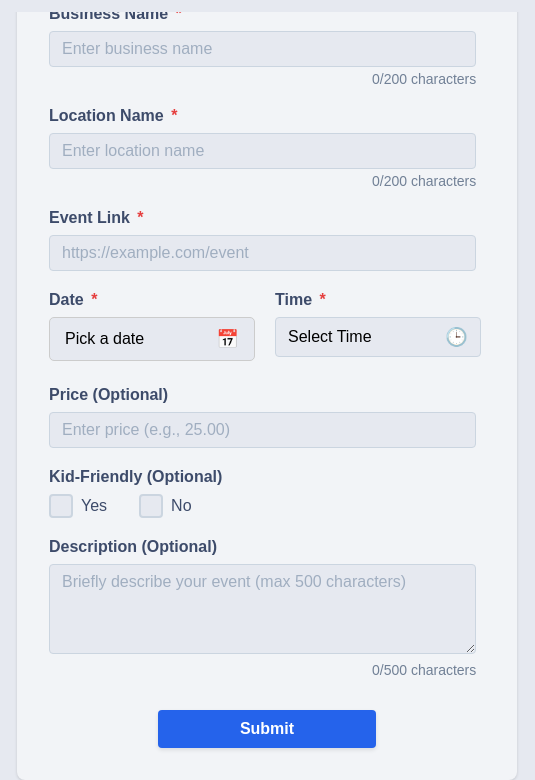
Scenario: Validation: required fields › shows errors for all required fields when submitting an empty form
This screenshot has width=535, height=780.
(page scrolled)
What coordinates should you click on to do the following:
click the button "Submit"
I would click on:
 (267, 729)
Its box is [158,710,376,748].
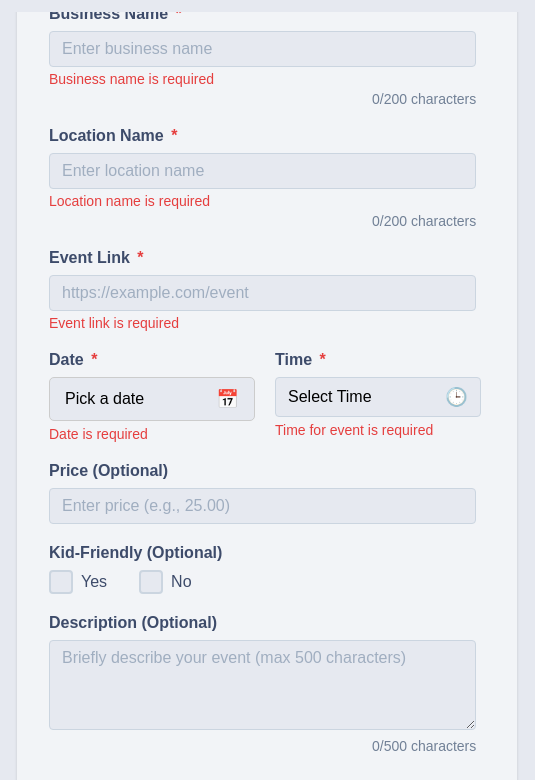
Expected: the text "Business name is required" is shown, [49,71,214,87]
Expected: the text "Location name is required" is shown, [49,193,210,209]
Expected: the text "Event link is required" is shown, [49,315,179,331]
